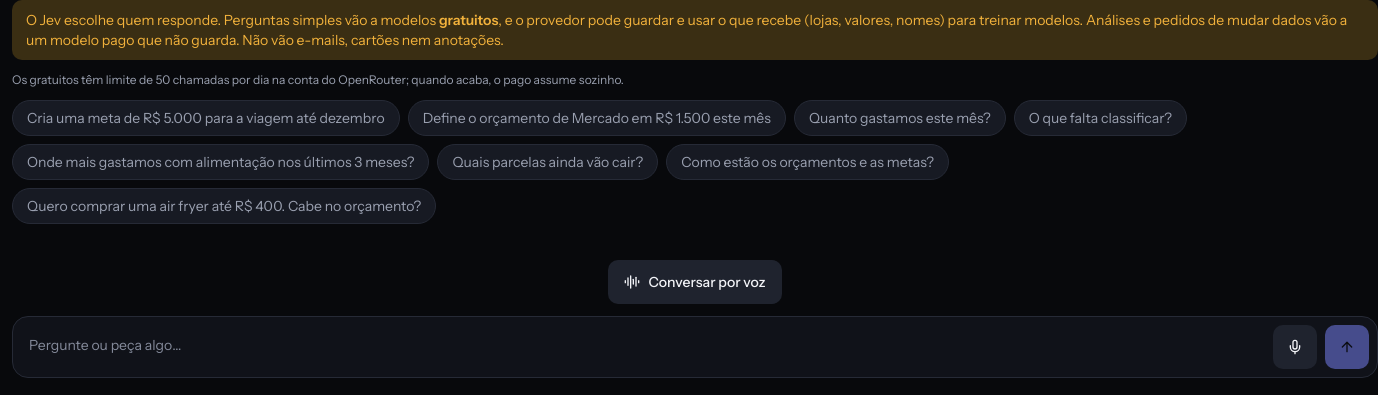
Scenario: PDF só quando pedem › resposta comum não traz botão de PDF
Type "quanto gastamos?" into the text box named "Pergunta" at (643, 347), box [21,325,1265,369]
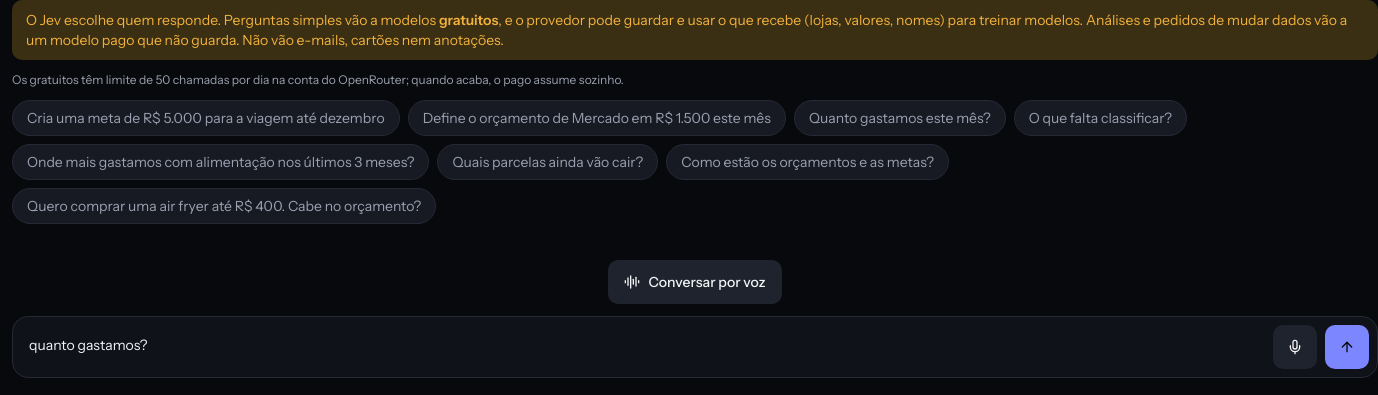
Press Enter in the text box named "Pergunta", box [21,325,1265,369]
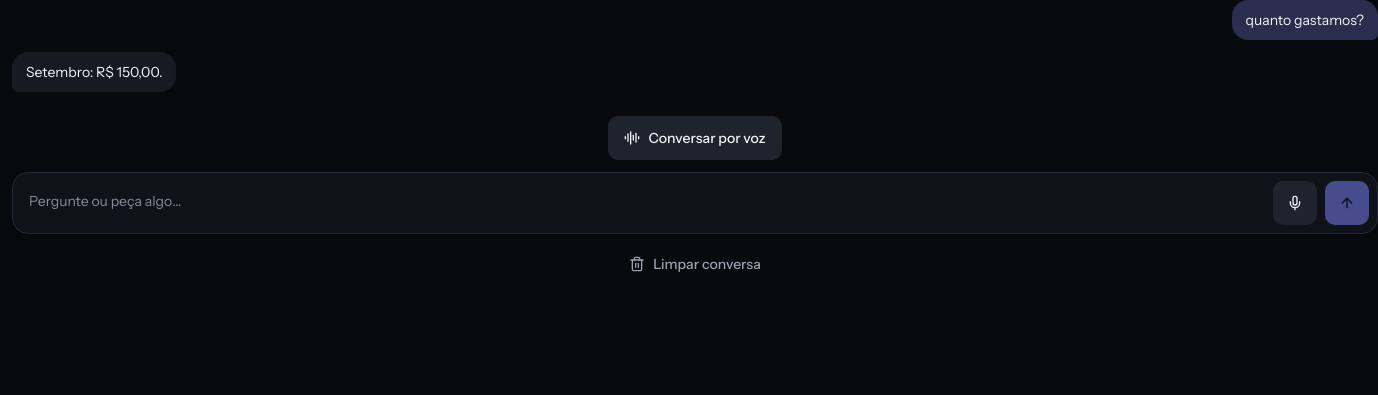
Now the text "Setembro: R$ 150,00." is shown, box [26,63,162,81]
